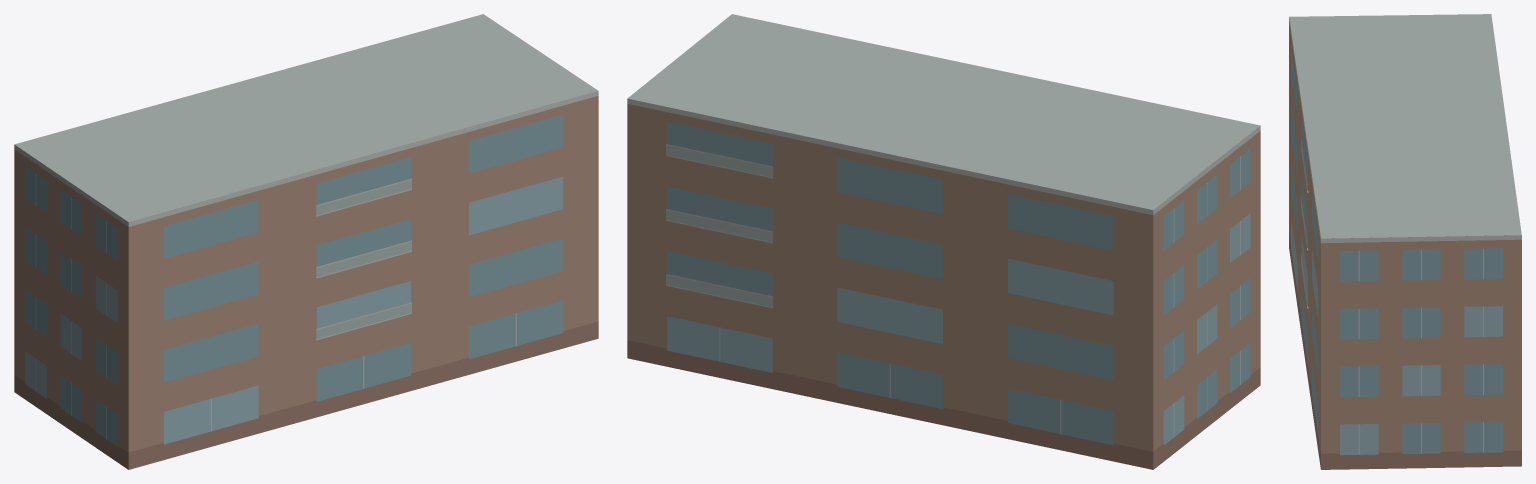
The model's file is survey-upis-32696719.glb.
The picture shows the model from 3 angles, left to right: view 1: azimuth 30°, elevation 25°; view 2: azimuth 150°, elevation 25°; view 3: azimuth 270°, elevation 25°; orthographic projection. The views are drawn at different scales.
Visible parts, largest first — view 1: survey-upis-32696719.tmp; view 2: survey-upis-32696719.tmp; view 3: survey-upis-32696719.tmp.
Boxes of the visible parts, <box> form: survey-upis-32696719.tmp: <box>14,14,598,469</box>; survey-upis-32696719.tmp: <box>627,14,1260,469</box>; survey-upis-32696719.tmp: <box>1289,14,1521,469</box>.
Bounding box in the file's own units: 25.84 × 12.4 × 11.32.
